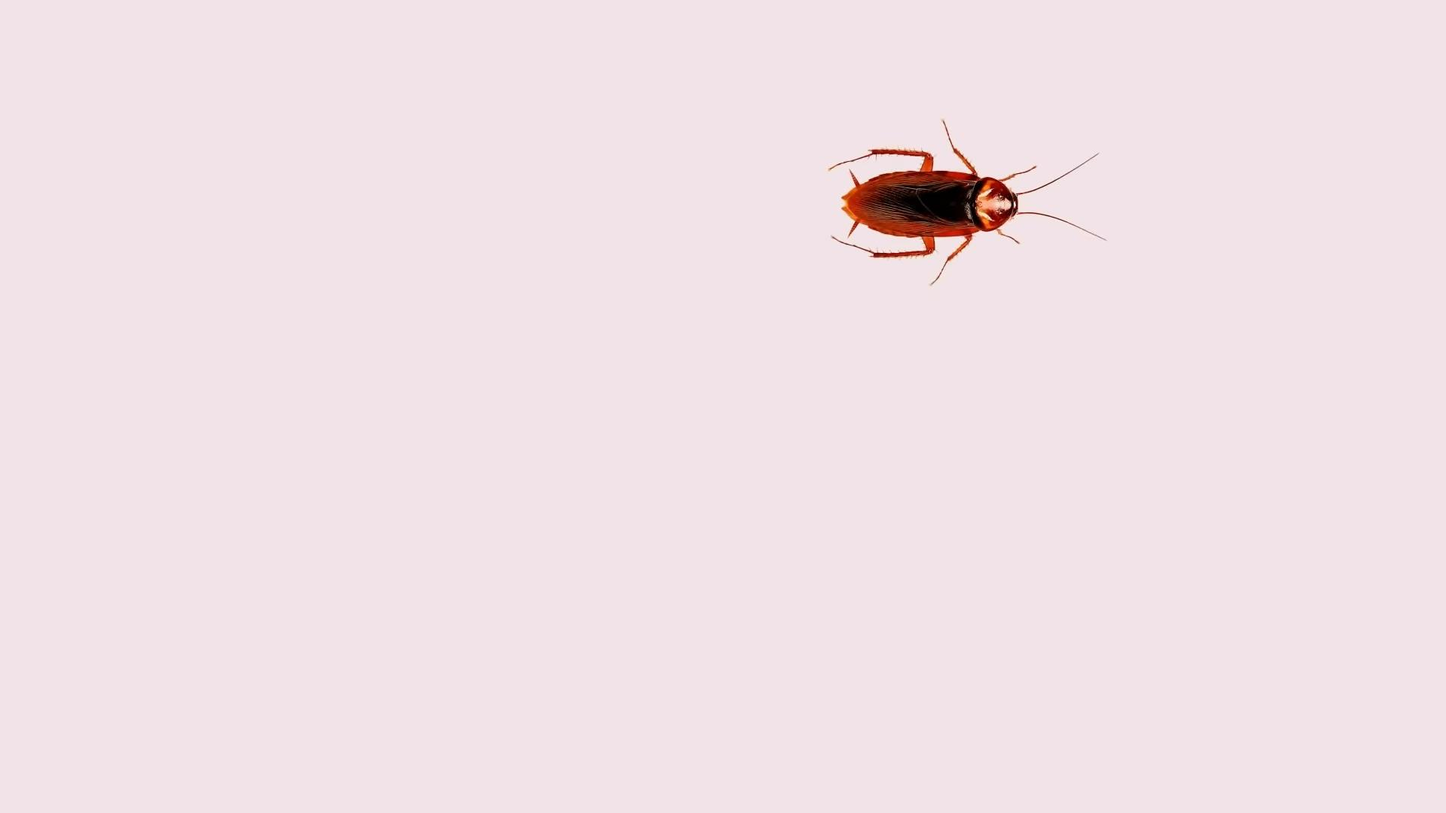cockroach: (816, 117, 1109, 290)
